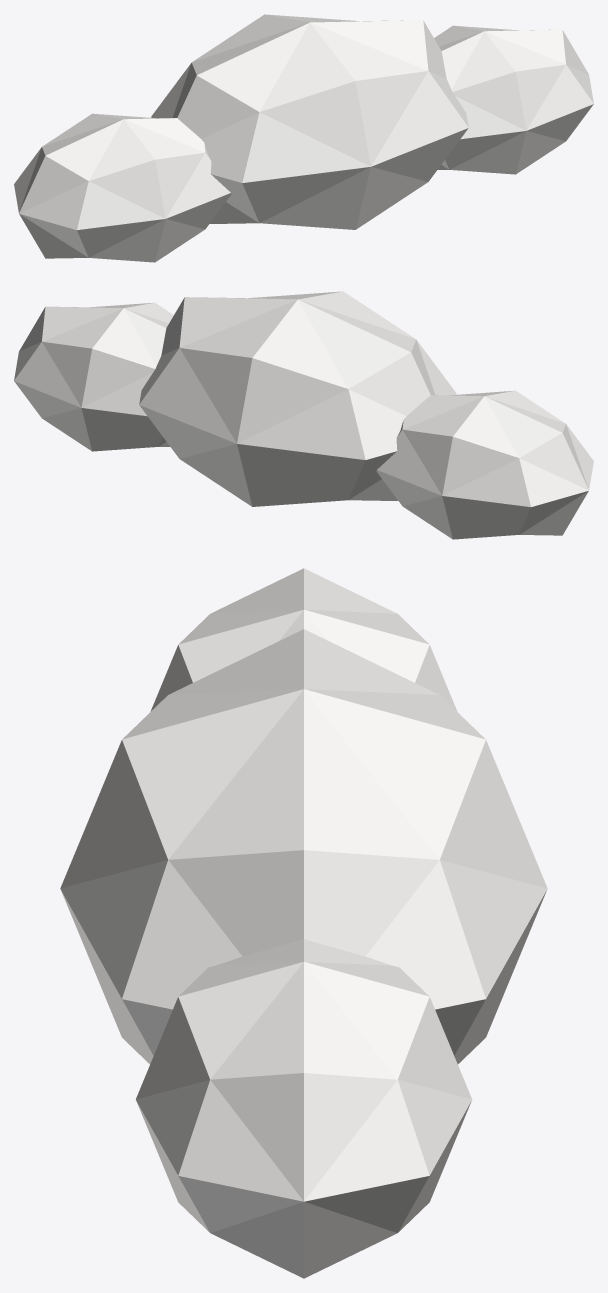
Rendered from Cloud_1.fbx.
The picture shows the model from 3 angles, top to bottom: view 1: azimuth 30°, elevation 25°; view 2: azimuth 150°, elevation 25°; view 3: azimuth 270°, elevation 25°; orthographic projection. The views are drawn at different scales.
Visible parts, largest first — view 1: Cloud_1; view 2: Cloud_1; view 3: Cloud_1.
Part boxes in pixels (<box>): Cloud_1: <box>14,14,593,262</box>; Cloud_1: <box>14,291,593,539</box>; Cloud_1: <box>60,568,547,1278</box>.
Bounding box in the file's own units: 286 × 106 × 95.55.
